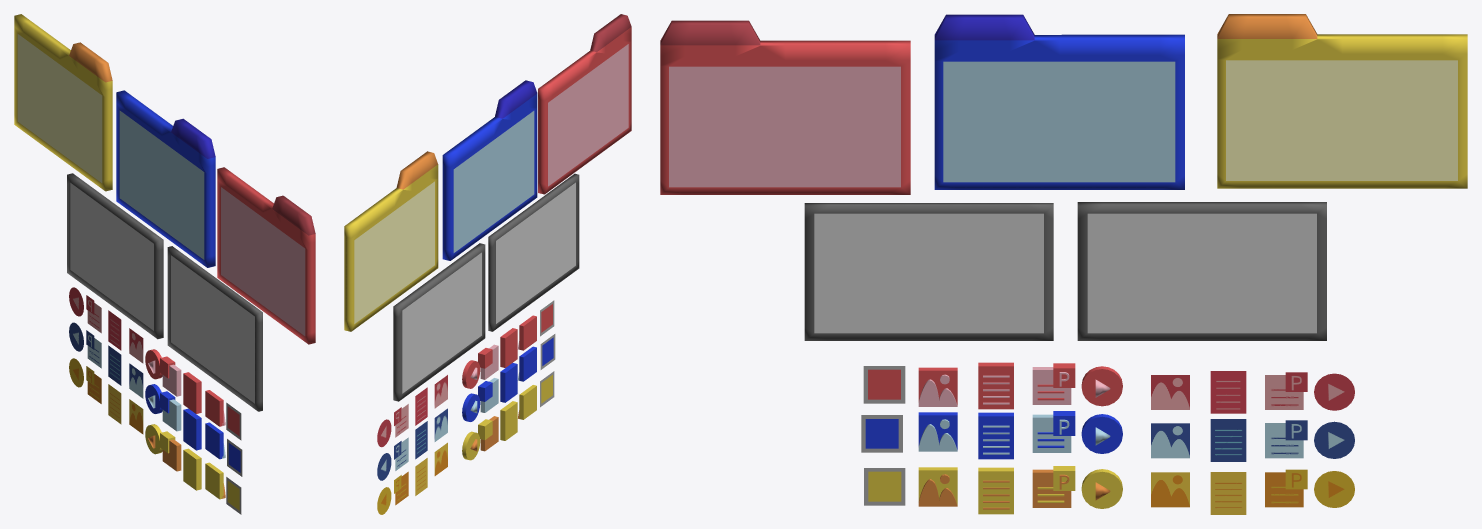
Rendered from 0524dreampuzzle2.fbx.
The picture shows the model from 3 angles, left to right: view 1: azimuth 30°, elevation 25°; view 2: azimuth 150°, elevation 25°; view 3: azimuth 270°, elevation 25°; orthographic projection. The views are drawn at different scales.
Parts seen in each view (by area): view 1: window2.001, window2.002, window2, window4.001, window4, pCube7.001, pCube7, pCube7.002, pCube6.001, pCube6, pCube6.002, pCube8.002 (+13 smaller); view 2: window2.001, window2.002, window2, window4.001, window4, pCube7, pCube7.001, pCube7.002, pCube6, pCube6.001, pCube6.002, Plane.001 (+14 smaller); view 3: window2.001, window2.002, window2, window4.001, window4, Plane, Plane.001, Plane.002, txt_plane, txt_plane.001, txt_plane.002, pCube7 (+17 smaller).
Boxes of the visible parts, x1,y1,x2,y2 form: window2.001: [116, 90, 215, 267]; window2.002: [14, 14, 112, 191]; window2: [217, 167, 315, 344]; window4.001: [67, 173, 163, 339]; window4: [167, 246, 262, 411]; pCube7.001: [183, 408, 201, 450]; pCube7: [183, 372, 201, 413]; pCube7.002: [183, 448, 201, 490]; pCube6.001: [205, 422, 223, 459]; pCube6: [205, 390, 223, 426]; pCube6.002: [205, 462, 223, 499]; pCube8.002: [162, 439, 181, 471]; window2.001: [442, 80, 537, 260]; window2.002: [344, 151, 438, 331]; window2: [538, 14, 631, 194]; window4.001: [393, 243, 485, 401]; window4: [488, 173, 579, 331]; pCube7: [500, 328, 517, 367]; pCube7.001: [500, 363, 517, 402]; pCube7.002: [500, 401, 517, 440]; pCube6: [519, 315, 536, 350]; pCube6.001: [519, 346, 536, 381]; pCube6.002: [519, 385, 536, 419]; Plane.001: [540, 334, 555, 369]; window2.001: [934, 14, 1184, 189]; window2.002: [1217, 14, 1467, 188]; window2: [660, 20, 910, 194]; window4.001: [1077, 202, 1326, 340]; window4: [804, 203, 1053, 340]; Plane: [863, 366, 905, 403]; Plane.001: [861, 415, 902, 452]; Plane.002: [864, 468, 905, 505]; txt_plane: [1210, 371, 1246, 413]; txt_plane.001: [1210, 419, 1246, 461]; txt_plane.002: [1210, 472, 1246, 514]; pCube7: [978, 362, 1013, 409].
Size of the model in its own units: 15.83 by 366 by 542.
